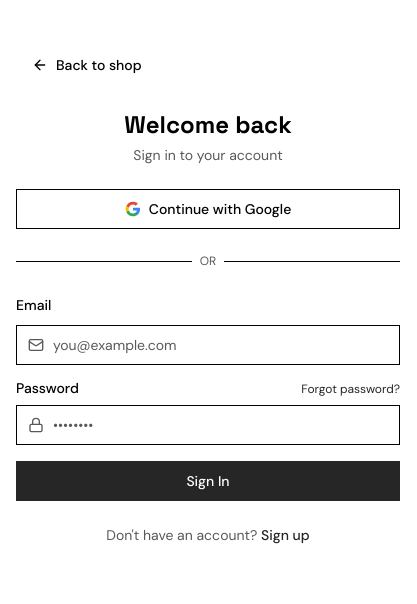
AuthPage › switches to signup form
Click the button "Sign up": (285, 535) x1=261 y1=525 x2=310 y2=545
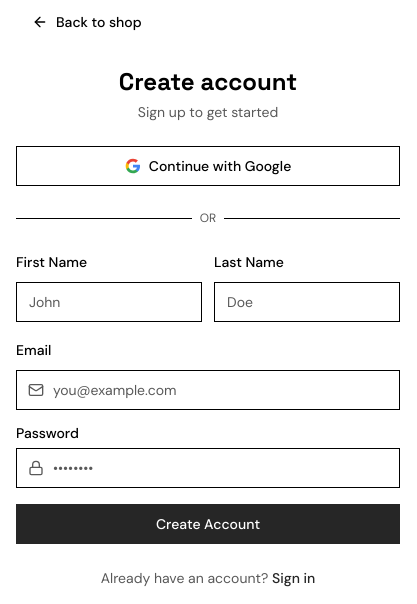
Now the heading "Create account" is shown, box x1=119 y1=66 x2=297 y2=97
Now the field labelled "First Name" is shown, box x1=16 y1=282 x2=202 y2=322
Now the field labelled "Last Name" is shown, box x1=214 y1=282 x2=400 y2=322
